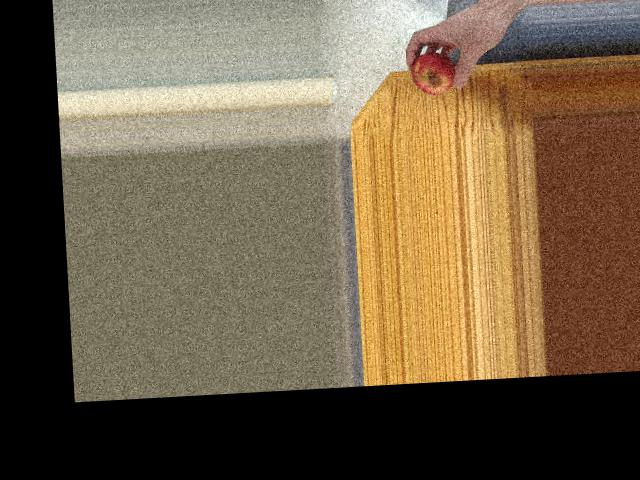apple: (408, 51, 459, 95)
